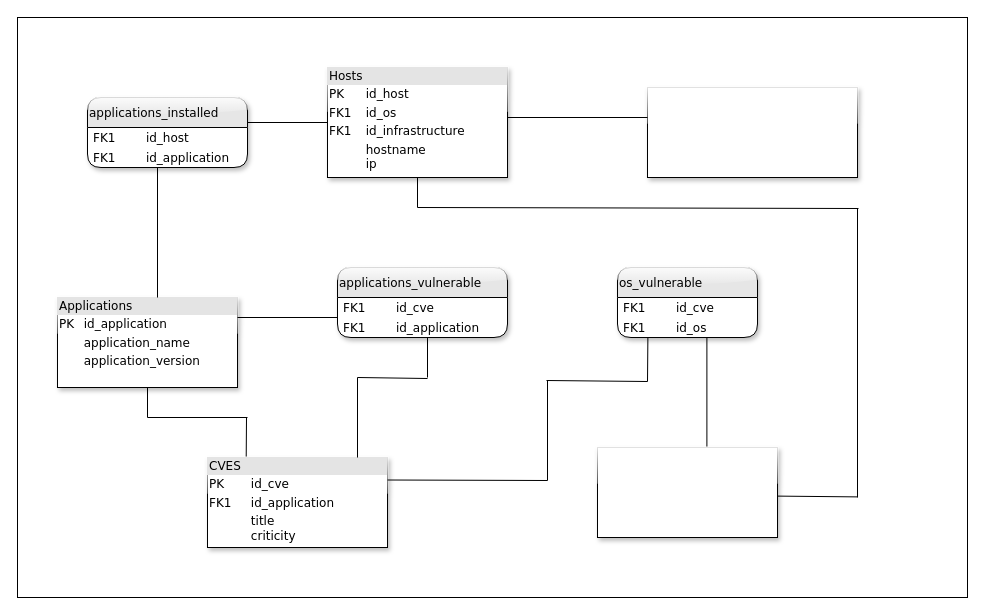
The diagram is 985 pixels wide and 615 high, and some of its shapes have lost their labels. The shapes that lost their labels are listed below. From the top down, each one's centre as x and y in pixels, then its label:
point 753,133: Infrastructure PK id_infrastructure login password infrastructure_name
point 688,493: OS PK id_os os_name os_version
